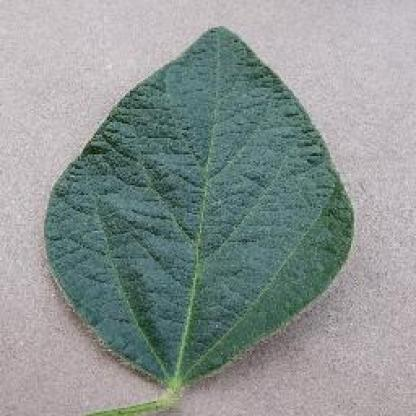soy: (27, 16, 361, 416)
